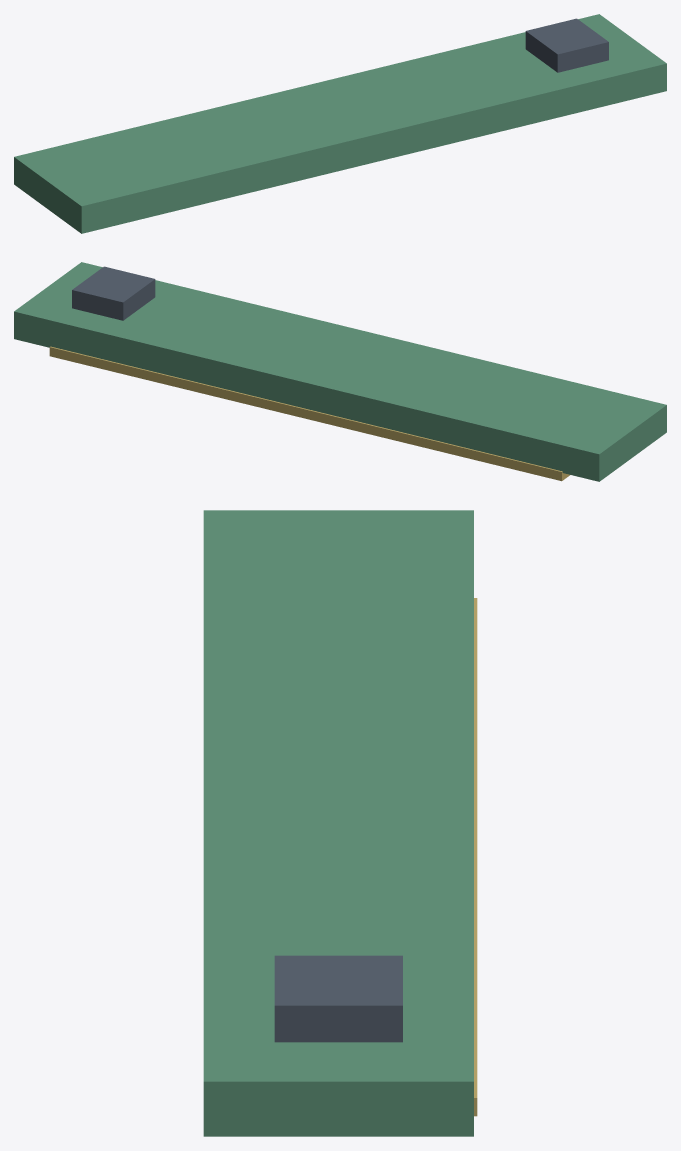
The model's file is ram.glb.
3 views of the same model, one above another, from view 1: azimuth 30°, elevation 25°; view 2: azimuth 150°, elevation 25°; view 3: azimuth 270°, elevation 25° (orthographic). The views are drawn at different scales.
Parts seen in each view (by area): view 1: RAM PCB, Memory chip; view 2: RAM PCB, Gold contacts, Memory chip; view 3: RAM PCB, Memory chip, Gold contacts.
Part boxes in pixels (left/top/right/bottom): RAM PCB: left=14, top=14, right=666, bottom=233; Memory chip: left=525, top=18, right=608, bottom=72; RAM PCB: left=14, top=262, right=666, bottom=481; Gold contacts: left=49, top=346, right=569, bottom=481; Memory chip: left=72, top=266, right=155, bottom=320; RAM PCB: left=203, top=510, right=473, bottom=1136; Memory chip: left=274, top=955, right=402, bottom=1042; Gold contacts: left=474, top=598, right=477, bottom=1116.
Bounding box in the file's own units: 4 × 0.35 × 0.81.
